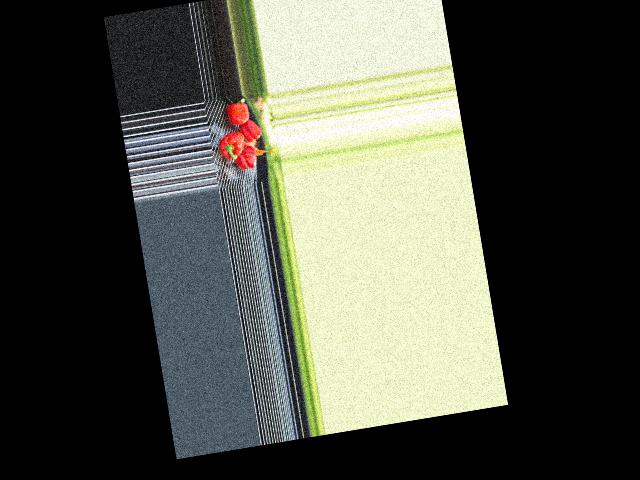bell_pepper: (234, 142, 259, 171)
